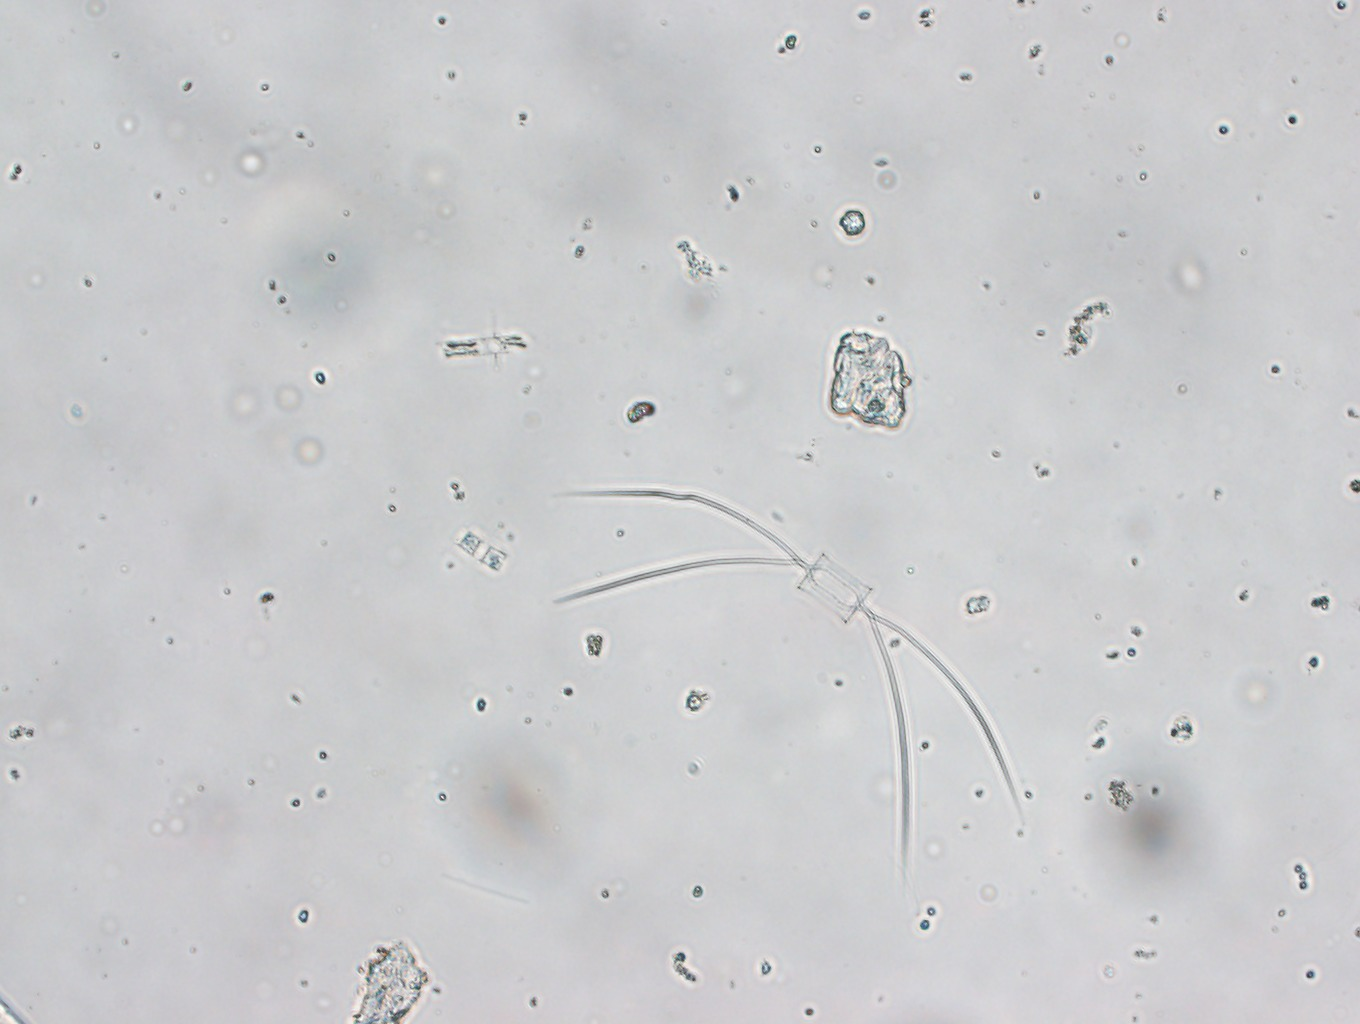chaetoceros: (553, 478, 1046, 888)
